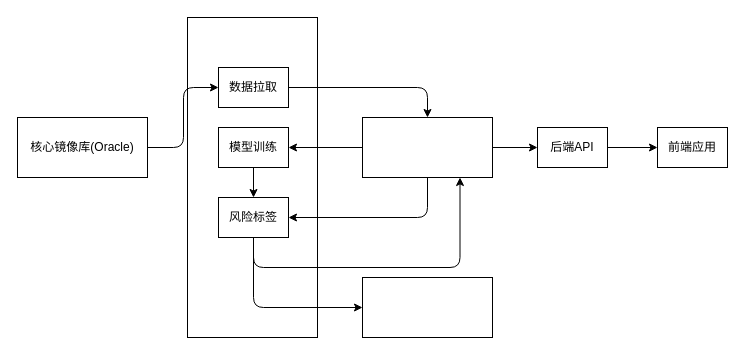
The diagram is 745 pixels wide and 355 high, and some of its shapes have lost their labels. Each missing label, with the box of its shape:
ETL (AirFlow): (186, 16, 318, 338)
图数据库(Neo4j): (362, 116, 492, 178)
消息队列(RocketMQ): (362, 276, 492, 338)
